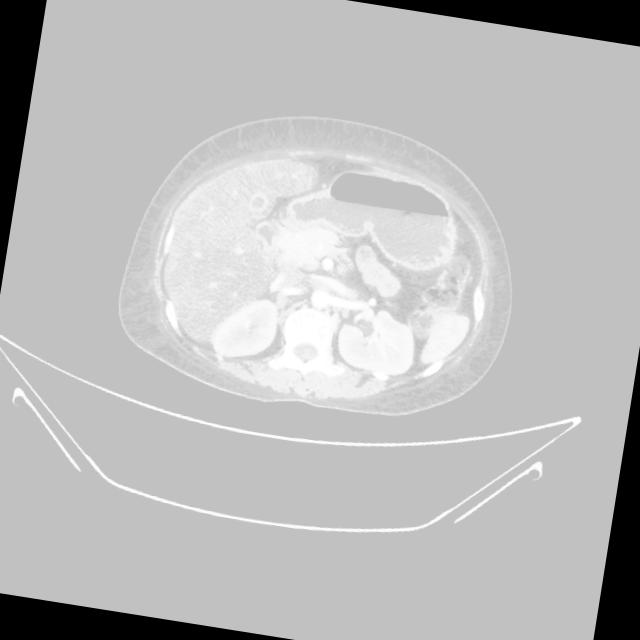NORMAL: (89, 77, 545, 437)
